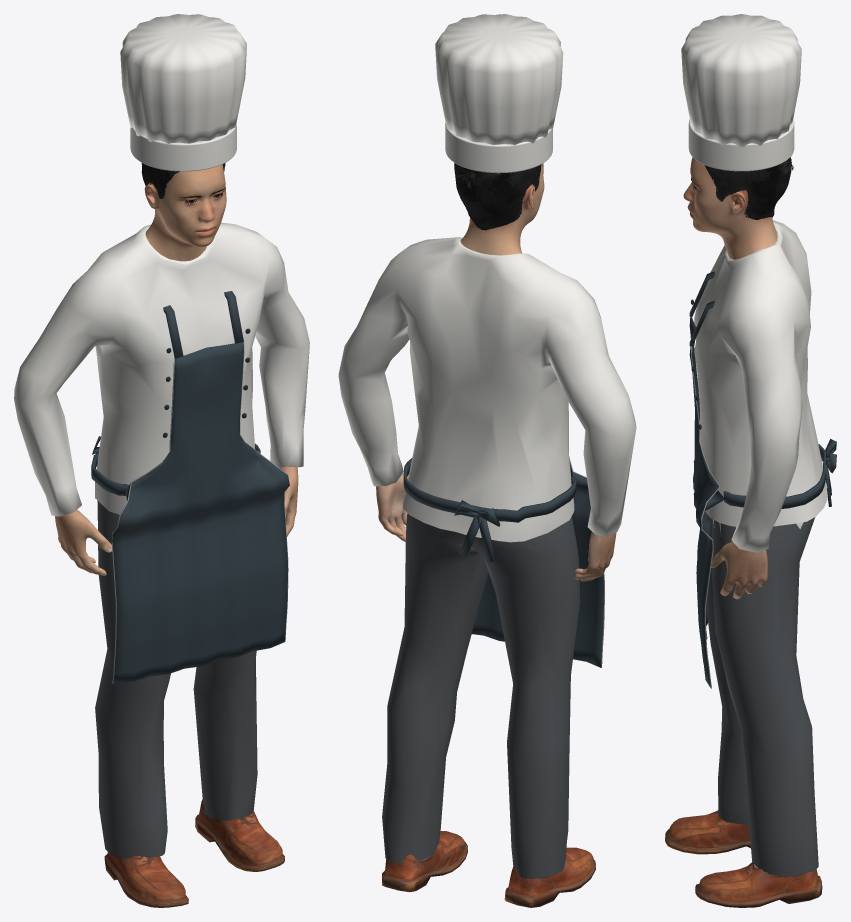
The model's file is chef.glb.
The picture shows the model from 3 angles, left to right: view 1: azimuth 30°, elevation 25°; view 2: azimuth 150°, elevation 25°; view 3: azimuth 270°, elevation 25°; orthographic projection.
Visible parts, largest first — view 1: Chef | fitted toque cloth band, Chef | apron neck strap, male_casualsuit02, Sam | anatomical body, shoes01, Chef | sewn apron side seam, short01; view 2: Chef | fitted toque cloth band, male_casualsuit02, Chef | apron neck strap, shoes01, Sam | anatomical body, short01; view 3: Chef | fitted toque cloth band, male_casualsuit02, shoes01, Sam | anatomical body, Chef | apron neck strap, short01, Chef | sewn apron side seam.
Part boxes in pixels (x1,y1,x2,y2): Chef | fitted toque cloth band: (14, 14, 309, 516); Chef | apron neck strap: (91, 291, 289, 683); male_casualsuit02: (95, 500, 257, 858); Sam | anatomical body: (55, 164, 298, 575); shoes01: (104, 799, 284, 907); Chef | sewn apron side seam: (111, 341, 289, 683); short01: (141, 163, 225, 208); Chef | fitted toque cloth band: (338, 14, 636, 542); male_casualsuit02: (382, 514, 580, 878); Chef | apron neck strap: (403, 458, 603, 667); shoes01: (382, 831, 595, 907); Sam | anatomical body: (376, 163, 616, 581); short01: (454, 163, 541, 230); Chef | fitted toque cloth band: (681, 14, 827, 552); male_casualsuit02: (706, 516, 818, 877); shoes01: (665, 810, 822, 907); Sam | anatomical body: (683, 157, 777, 599); Chef | apron neck strap: (689, 271, 836, 687); short01: (704, 157, 793, 219); Chef | sewn apron side seam: (691, 346, 720, 688).
Bounding box in the file's own units: 0.7211 × 2.01 × 0.3765.
13 materials, 9 textured.
